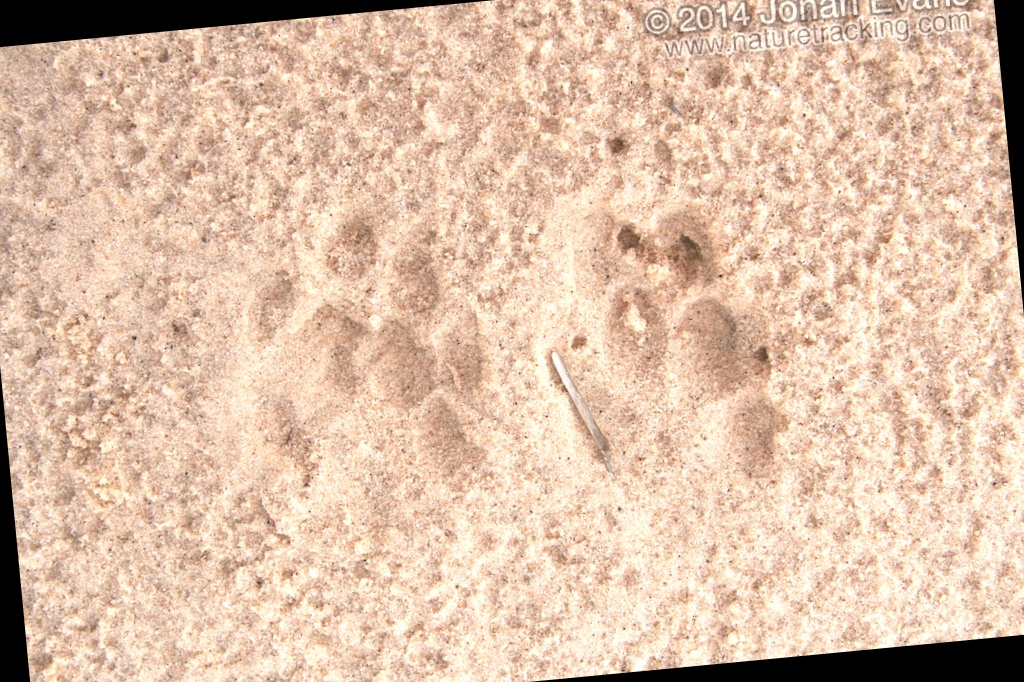coyote: (238, 209, 499, 481), (561, 203, 759, 426)
